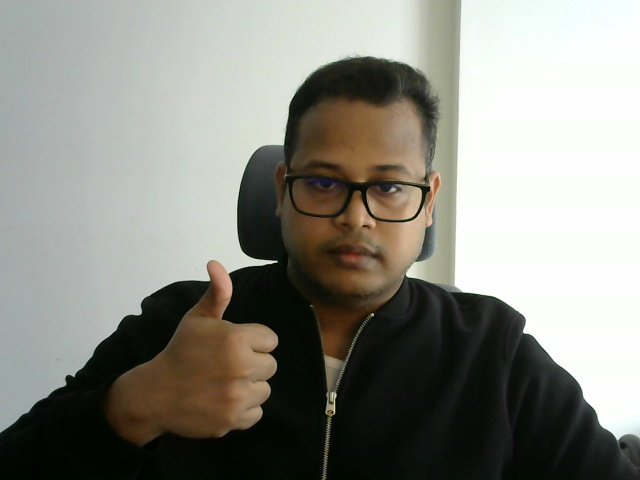ThumbsUp: (175, 260, 278, 438)
